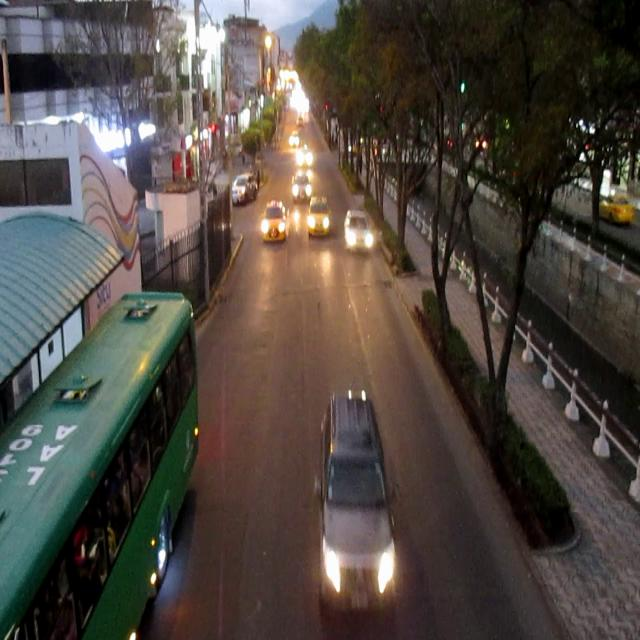BUS: (4, 290, 203, 636)
SUV: (323, 387, 402, 611), (234, 175, 258, 204)
